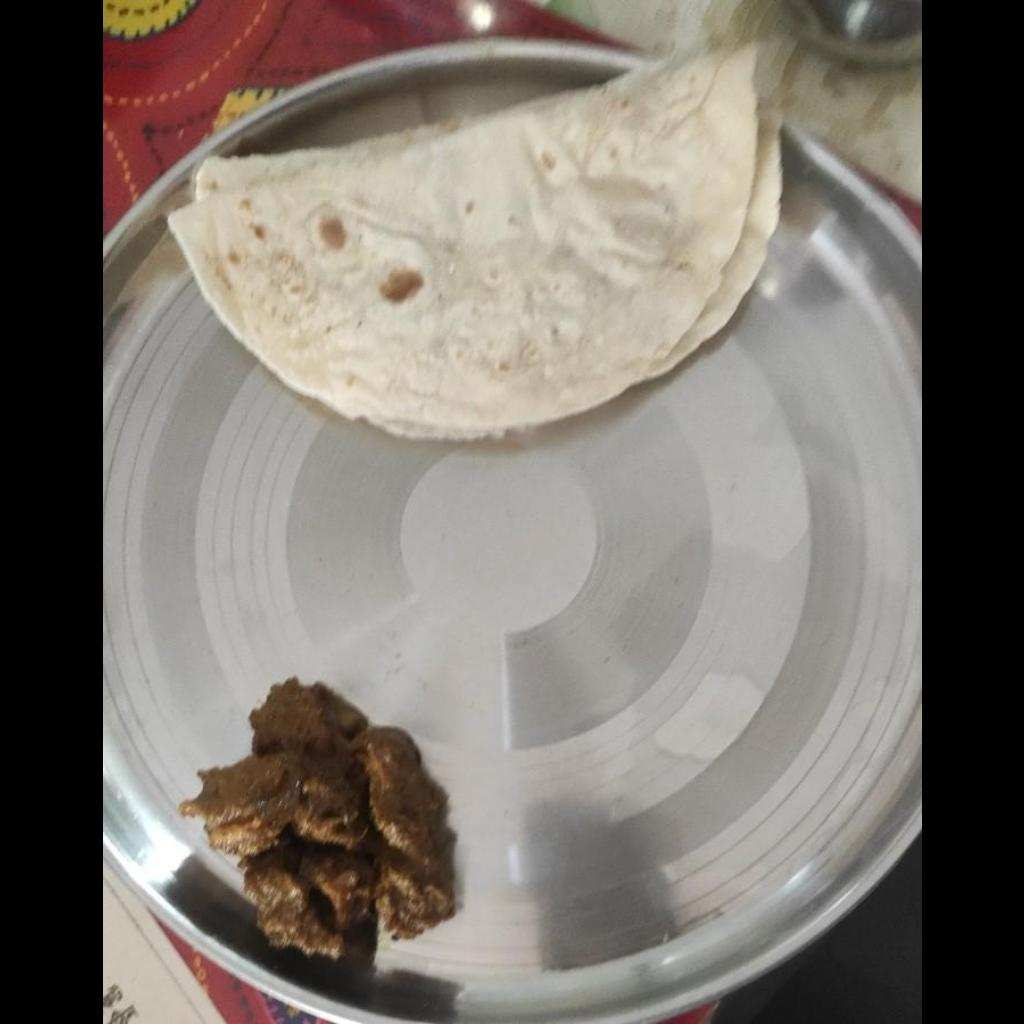chicken: (183, 677, 459, 966)
ruti: (163, 28, 784, 441)
